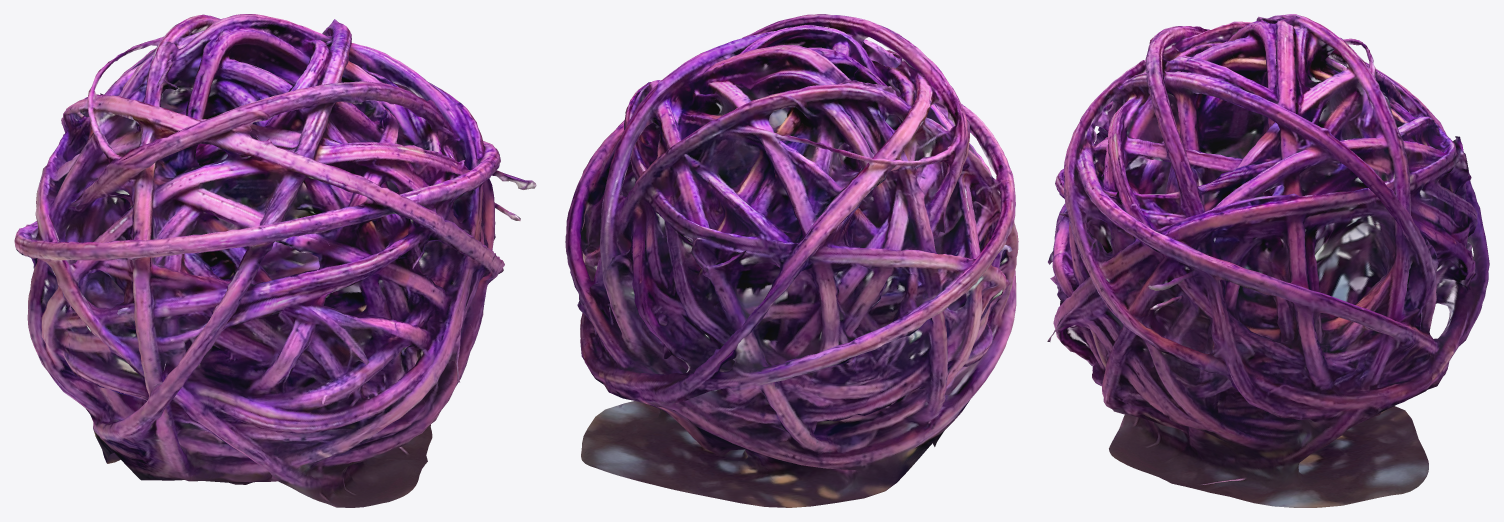
Rendered from dont_know_the_name_lets_call_it_yarn.glb.
3 views of the same model, side by side, from view 1: azimuth 30°, elevation 25°; view 2: azimuth 150°, elevation 25°; view 3: azimuth 270°, elevation 25° (orthographic). The views are drawn at different scales.
Parts seen in each view (by area): view 1: Object_2; view 2: Object_2; view 3: Object_2.
Boxes of the visible parts, x1,y1,x2,y2 form: Object_2: [14, 14, 536, 507]; Object_2: [565, 14, 1018, 507]; Object_2: [1047, 14, 1489, 507].
Size of the model in its own units: 0.2642 by 0.2567 by 0.2557.
Materials: 1 (1 with a texture image).
